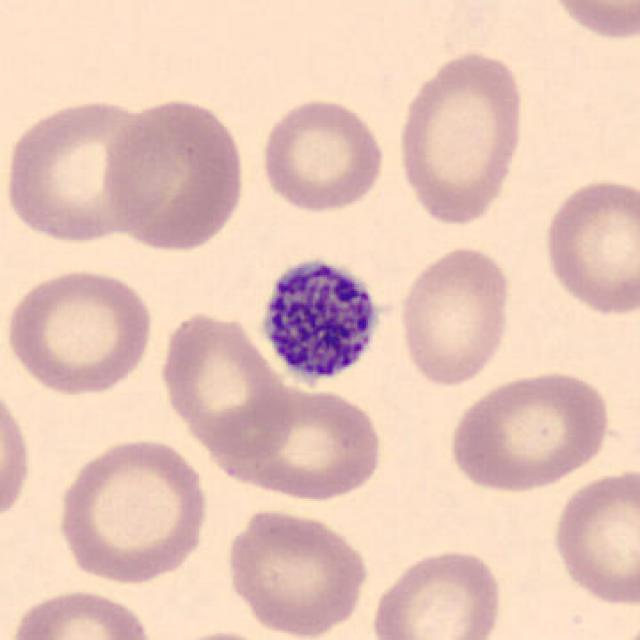Platelets: (252, 247, 388, 395)
RBC: (0, 93, 172, 245), (393, 46, 528, 229), (52, 434, 214, 585), (101, 93, 251, 254), (153, 308, 299, 462), (445, 367, 615, 495), (214, 381, 388, 506), (2, 264, 156, 398), (222, 504, 372, 638), (393, 242, 515, 390), (256, 94, 389, 215), (539, 173, 638, 317), (366, 545, 507, 640), (548, 466, 638, 608), (5, 585, 158, 640), (0, 374, 34, 532), (542, 0, 638, 42), (147, 626, 300, 640), (610, 617, 638, 640)
